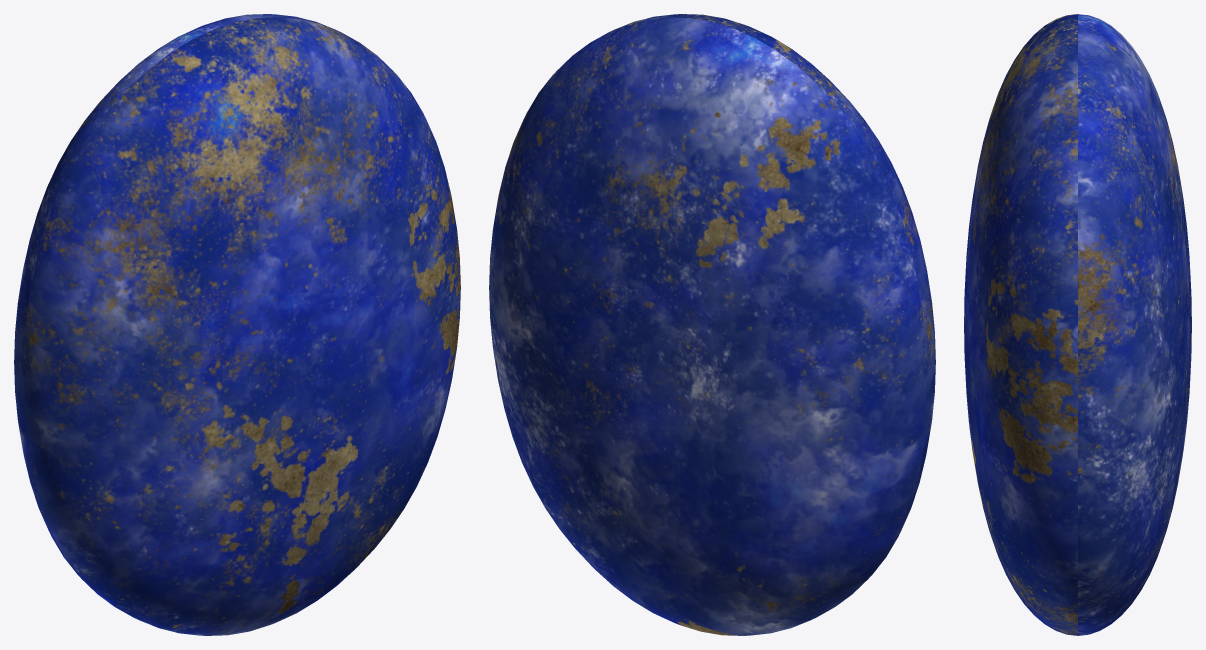
File: Lapis Lazuli.fbx
3 renders of one model, left to right at view 1: azimuth 30°, elevation 25°; view 2: azimuth 150°, elevation 25°; view 3: azimuth 270°, elevation 25°, orthographic. The views are drawn at different scales.
Parts seen in each view (by area): view 1: Lapis Lazuli; view 2: Lapis Lazuli; view 3: Lapis Lazuli.
Part boxes in pixels (bbox=[...]): Lapis Lazuli: bbox=[14, 14, 460, 635]; Lapis Lazuli: bbox=[489, 14, 935, 635]; Lapis Lazuli: bbox=[964, 14, 1191, 635].
Bounding box in the file's own units: 0.1398 × 0.1893 × 0.0666.
Materials: 1 (1 with a texture image).
